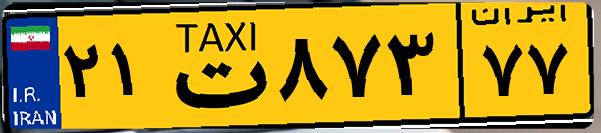1: (110, 28, 158, 98)
2: (57, 26, 110, 100)
3: (385, 28, 445, 110)
7: (330, 28, 385, 110), (475, 38, 525, 113), (525, 38, 570, 115)
8: (270, 28, 330, 110)
ت: (158, 12, 270, 120)
